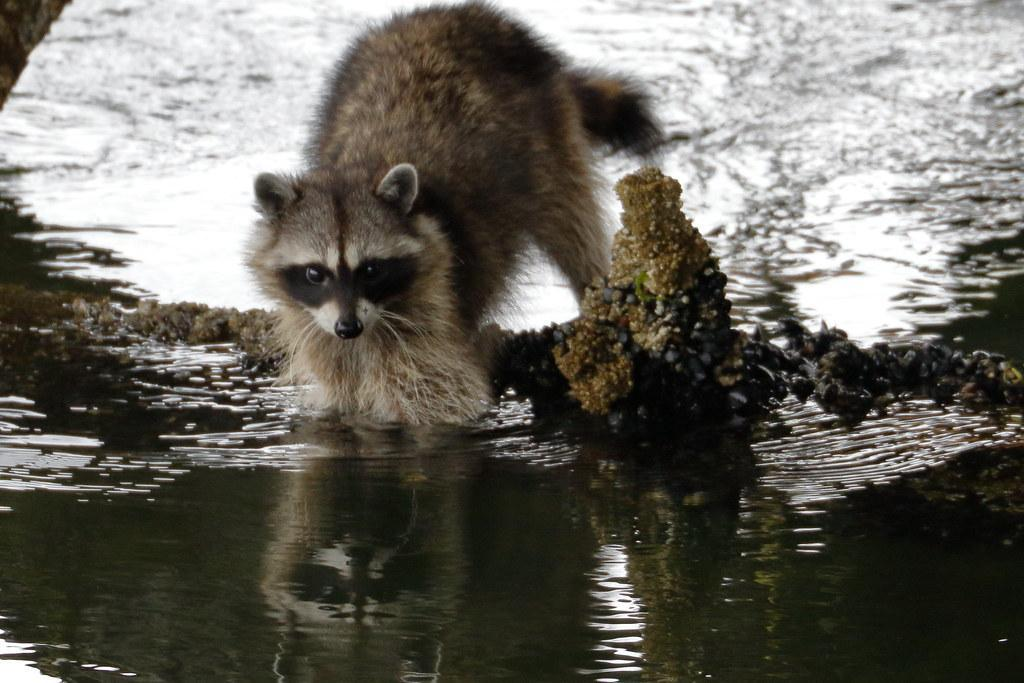raccoon: (244, 1, 663, 430)
